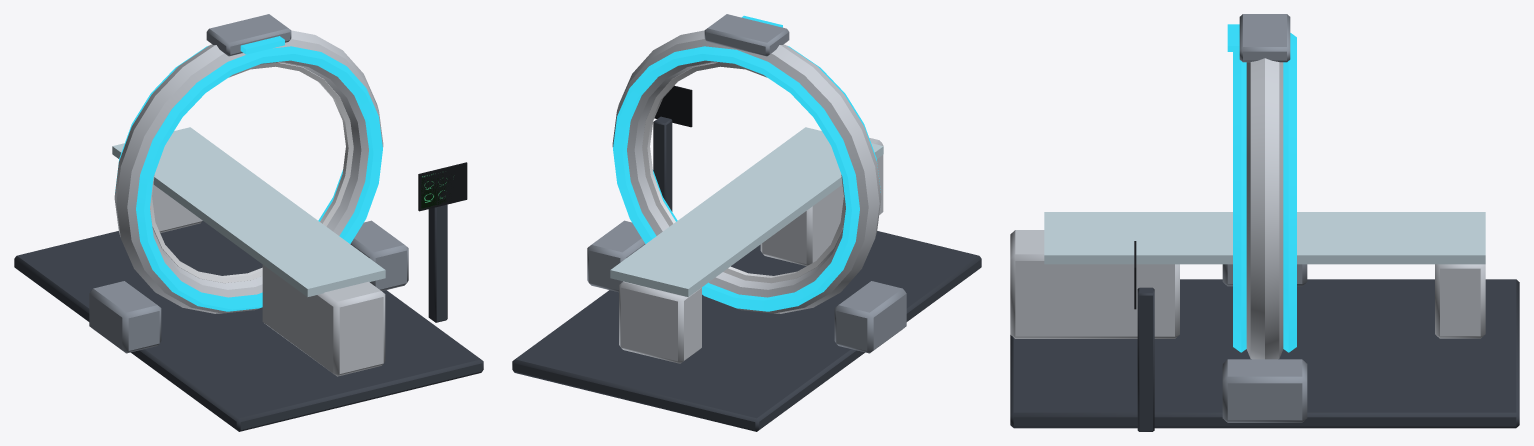
File: medscanner_whole_body_scanner_arch.glb
The picture shows the model from 3 angles, left to right: view 1: azimuth 30°, elevation 25°; view 2: azimuth 150°, elevation 25°; view 3: azimuth 270°, elevation 25°; orthographic projection. The views are drawn at different scales.
Parts seen in each view (by area): view 1: medscanner_whole_body_scanner_arch; view 2: medscanner_whole_body_scanner_arch; view 3: medscanner_whole_body_scanner_arch.
Part boxes in pixels (x1=…): medscanner_whole_body_scanner_arch: x1=14, y1=14, x2=483, y2=431; medscanner_whole_body_scanner_arch: x1=512, y1=14, x2=981, y2=431; medscanner_whole_body_scanner_arch: x1=1010, y1=14, x2=1519, y2=431.
Bounding box in the file's own units: 2.33 × 2.15 × 3.
Materials: 8 (1 with a texture image).
